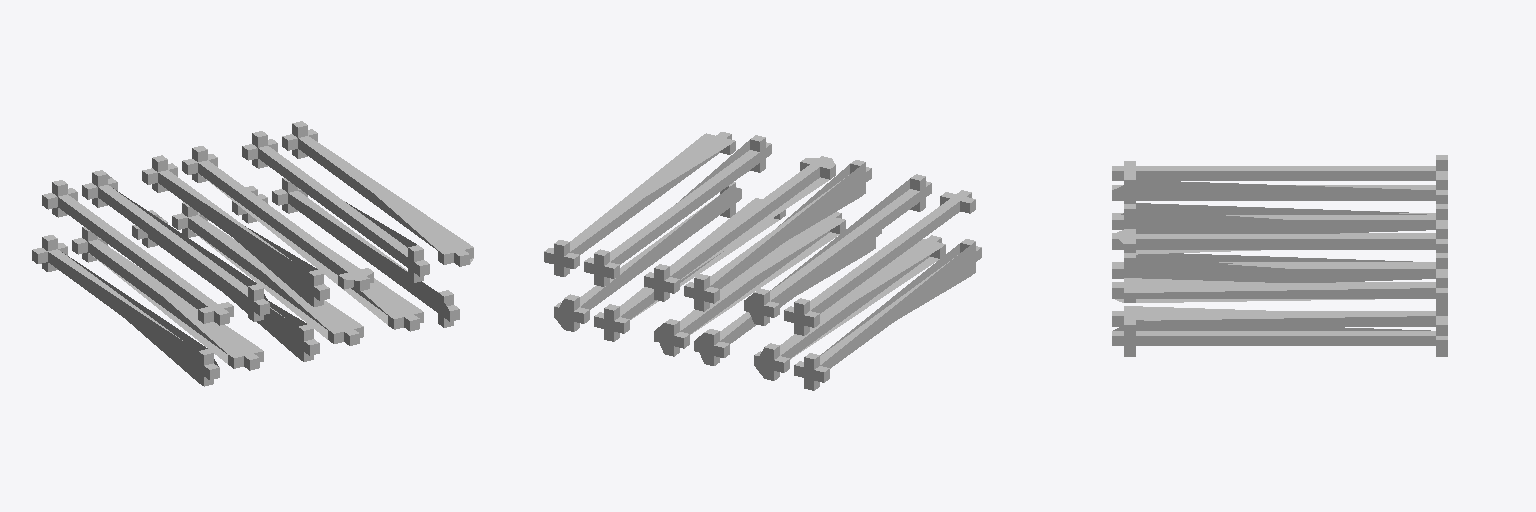
The model's file is Trap_Wall_Large_Active.obj.
3 views of the same model, side by side, from view 1: azimuth 30°, elevation 25°; view 2: azimuth 150°, elevation 25°; view 3: azimuth 270°, elevation 25° (orthographic).
Parts seen in each view (by area): view 1: Trap_Wall_Large_Active_Trap_Wall_Large_Active.001; view 2: Trap_Wall_Large_Active_Trap_Wall_Large_Active.001; view 3: Trap_Wall_Large_Active_Trap_Wall_Large_Active.001.
Part boxes in pixels (left/top/right/bottom): Trap_Wall_Large_Active_Trap_Wall_Large_Active.001: left=32, top=121, right=473, bottom=386; Trap_Wall_Large_Active_Trap_Wall_Large_Active.001: left=544, top=132, right=981, bottom=390; Trap_Wall_Large_Active_Trap_Wall_Large_Active.001: left=1112, top=155, right=1447, bottom=356.
Bounding box in the file's own units: 2.8 × 0.8 × 2.9.